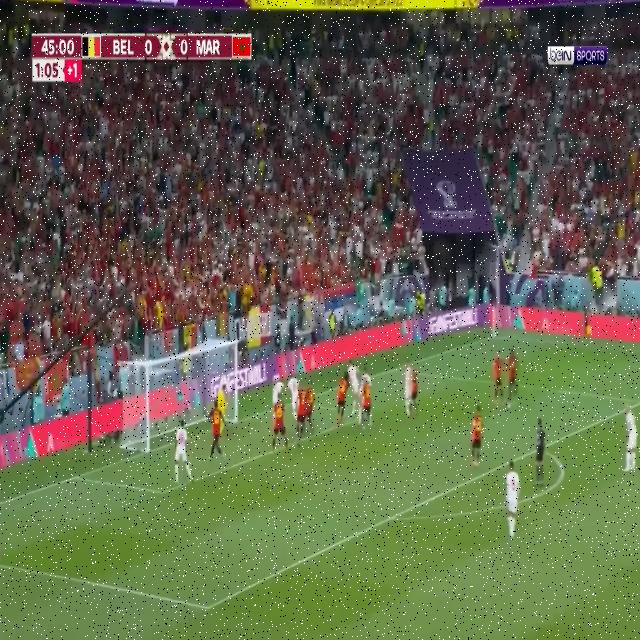GoalKeeper: (217, 381, 228, 411)
Referee: (533, 419, 551, 487), (584, 307, 592, 341)
TEAM 1: (205, 399, 229, 461), (270, 384, 291, 450), (467, 404, 486, 469), (506, 348, 520, 408), (334, 376, 350, 426), (492, 350, 505, 406), (360, 379, 374, 429), (296, 384, 306, 449), (306, 380, 315, 430), (412, 362, 419, 414)
TEAM 2: (173, 420, 197, 486), (503, 460, 521, 540), (624, 404, 640, 472), (347, 359, 360, 419), (403, 362, 411, 419), (288, 372, 298, 411), (272, 378, 284, 400), (360, 365, 370, 385)
